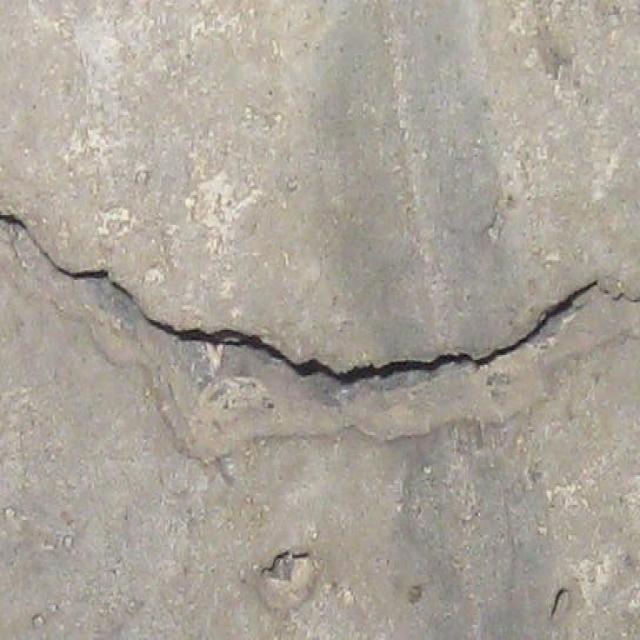Rippled: (251, 546, 327, 602), (549, 584, 566, 623)
Transverse: (0, 180, 640, 446)
